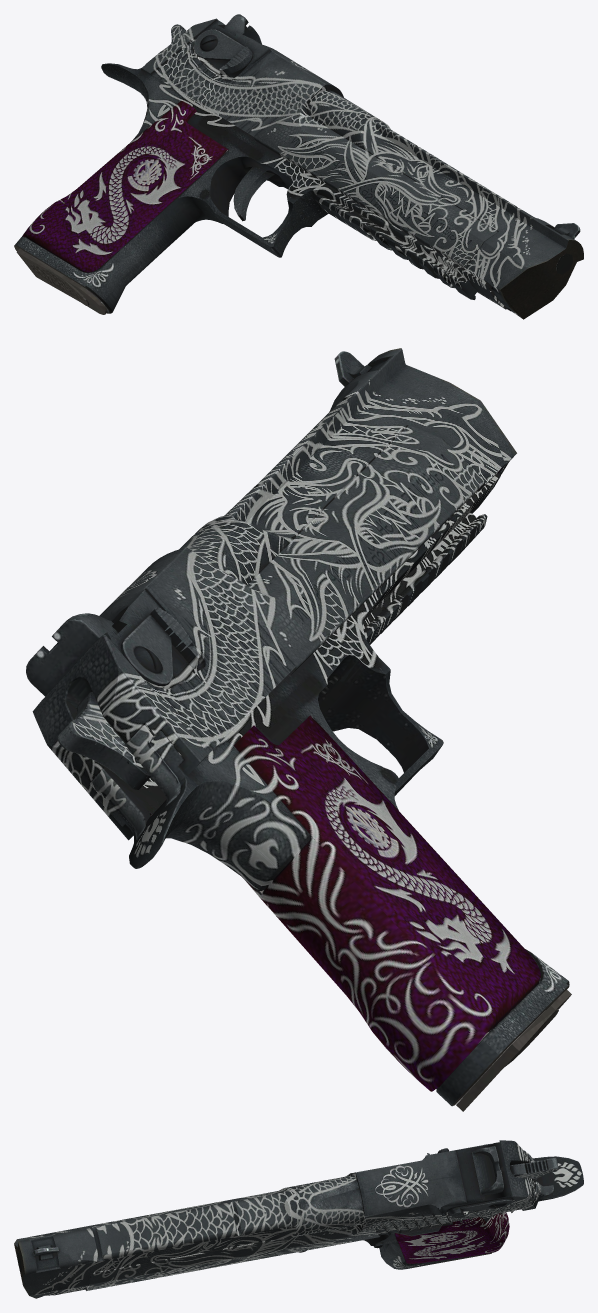
The model's file is deagle.gltf.
3 views of the same model, one above another, from view 1: azimuth 30°, elevation 25°; view 2: azimuth 150°, elevation 25°; view 3: azimuth 270°, elevation 25° (orthographic). The views are drawn at different scales.
Visible parts, largest first — view 1: desert_eagle; view 2: desert_eagle; view 3: desert_eagle.
Part boxes in pixels (x1,y1,x2,y2): desert_eagle: (14,14,583,319); desert_eagle: (26,348,571,1111); desert_eagle: (14,1140,583,1298).
Size of the model in its own units: 6.98 by 4.44 by 11.05.
1 material, 1 textured.
